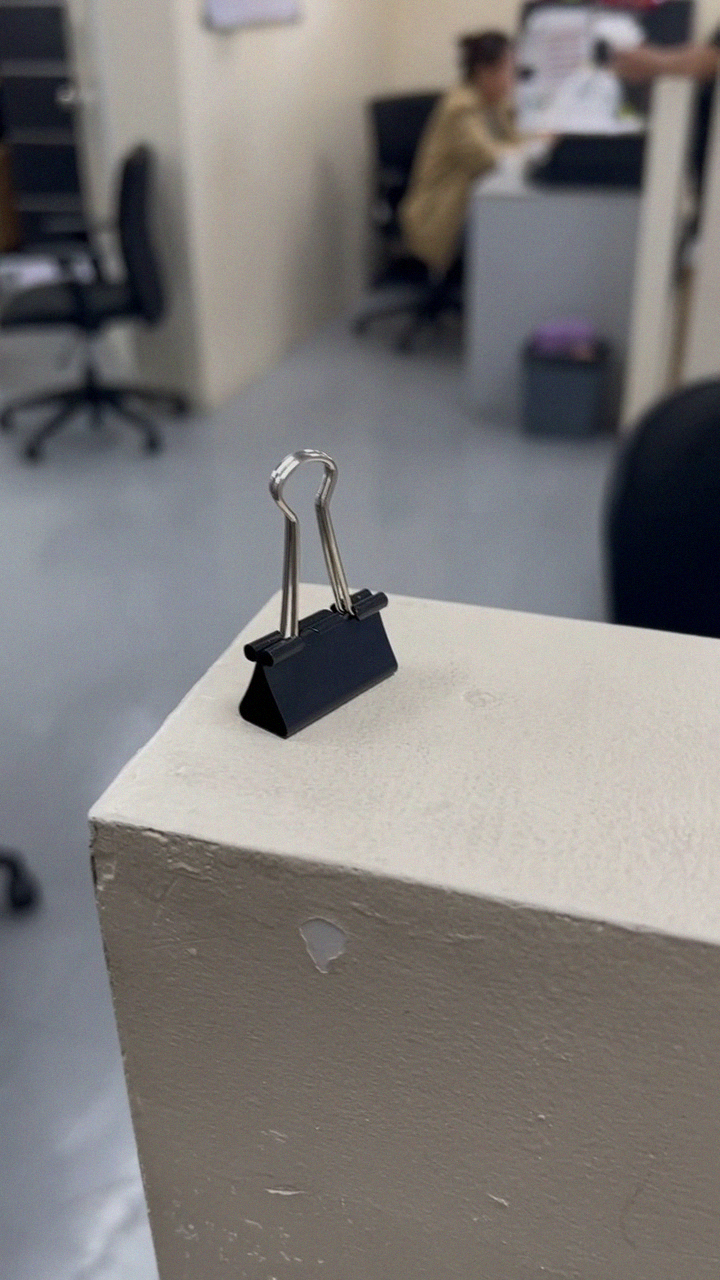kep_giay: (233, 445, 402, 743)
